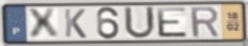6: (96, 6, 120, 41)
E: (155, 6, 190, 39)
K: (63, 7, 88, 39)
R: (189, 5, 222, 39)
U: (123, 5, 158, 41)
X: (26, 7, 62, 41)
